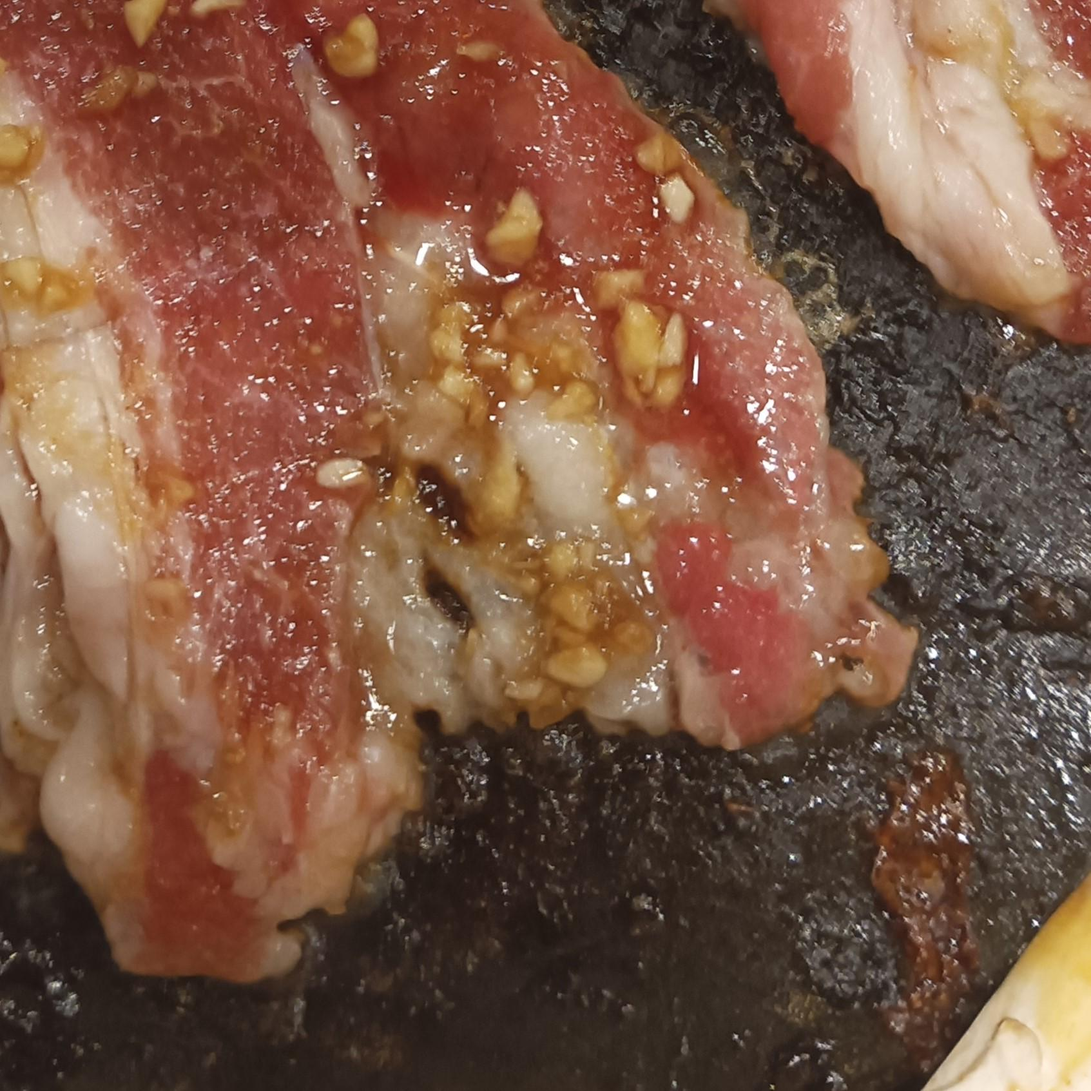Undercooked: (0, 0, 916, 982), (717, 0, 1090, 343)
